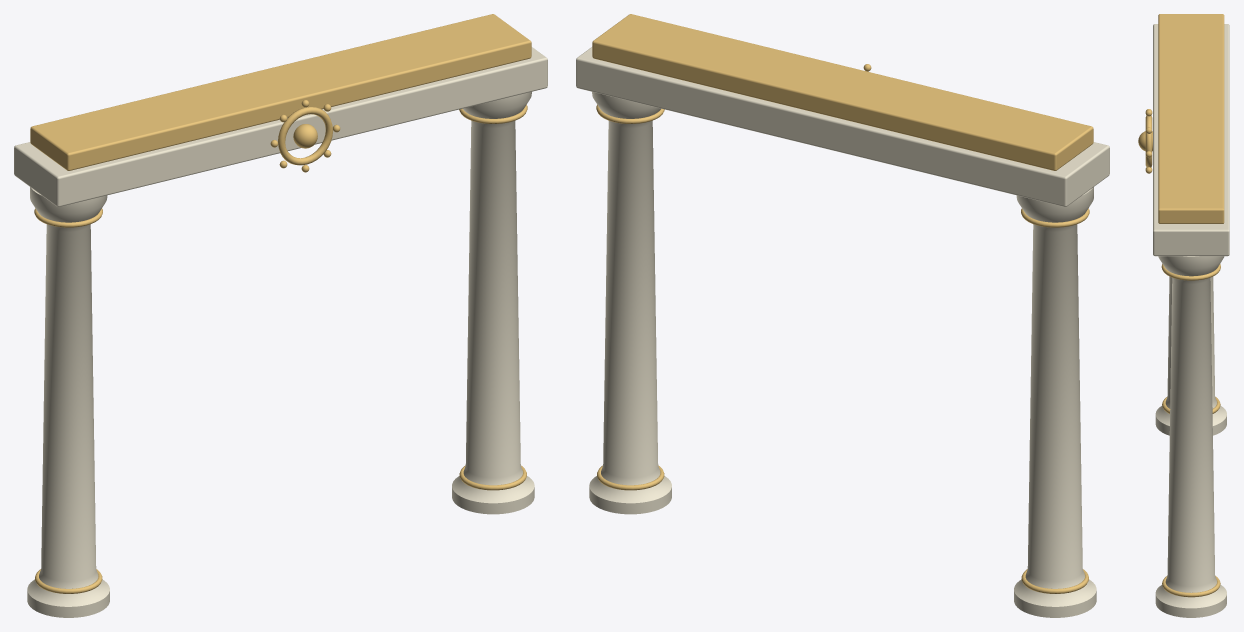
File: royal-court-and-throne-palace-courtyard-entry-arch-c5cc904e__29425.glb
3 renders of one model, left to right at view 1: azimuth 30°, elevation 25°; view 2: azimuth 150°, elevation 25°; view 3: azimuth 270°, elevation 25°, orthographic. The views are drawn at different scales.
Parts seen in each view (by area): view 1: courtyard-entry-arch; view 2: courtyard-entry-arch; view 3: courtyard-entry-arch.
Boxes of the visible parts, <box> form: courtyard-entry-arch: <box>14,14,547,617</box>; courtyard-entry-arch: <box>576,14,1109,617</box>; courtyard-entry-arch: <box>1138,14,1229,617</box>.
Size of the model in its own units: 3.74 by 3.36 by 0.6909.
